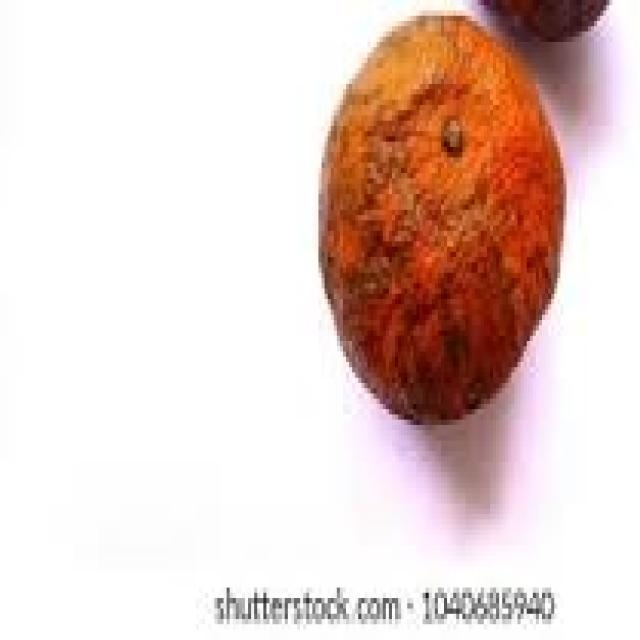overripe: (315, 13, 566, 434)
